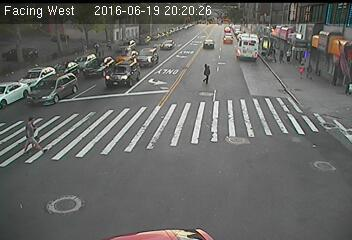neg: (179, 112, 197, 136), (74, 142, 91, 166), (145, 193, 161, 214), (39, 74, 53, 93), (69, 105, 83, 123), (111, 181, 125, 198), (108, 98, 121, 116), (79, 178, 92, 196), (296, 164, 308, 181), (275, 106, 287, 122), (257, 75, 269, 90), (230, 34, 241, 49), (132, 144, 143, 159), (90, 76, 101, 90), (178, 11, 189, 25), (166, 156, 177, 170), (173, 61, 183, 75), (132, 76, 142, 89), (153, 78, 163, 91), (225, 110, 235, 123), (166, 34, 176, 47), (15, 9, 24, 22), (319, 110, 328, 122), (211, 165, 220, 177), (141, 112, 149, 124), (170, 109, 178, 120), (258, 166, 265, 176), (204, 35, 211, 44)
pos: (18, 115, 45, 151), (197, 59, 216, 85), (295, 60, 308, 78), (275, 47, 286, 63), (286, 47, 297, 62), (92, 41, 101, 54)
